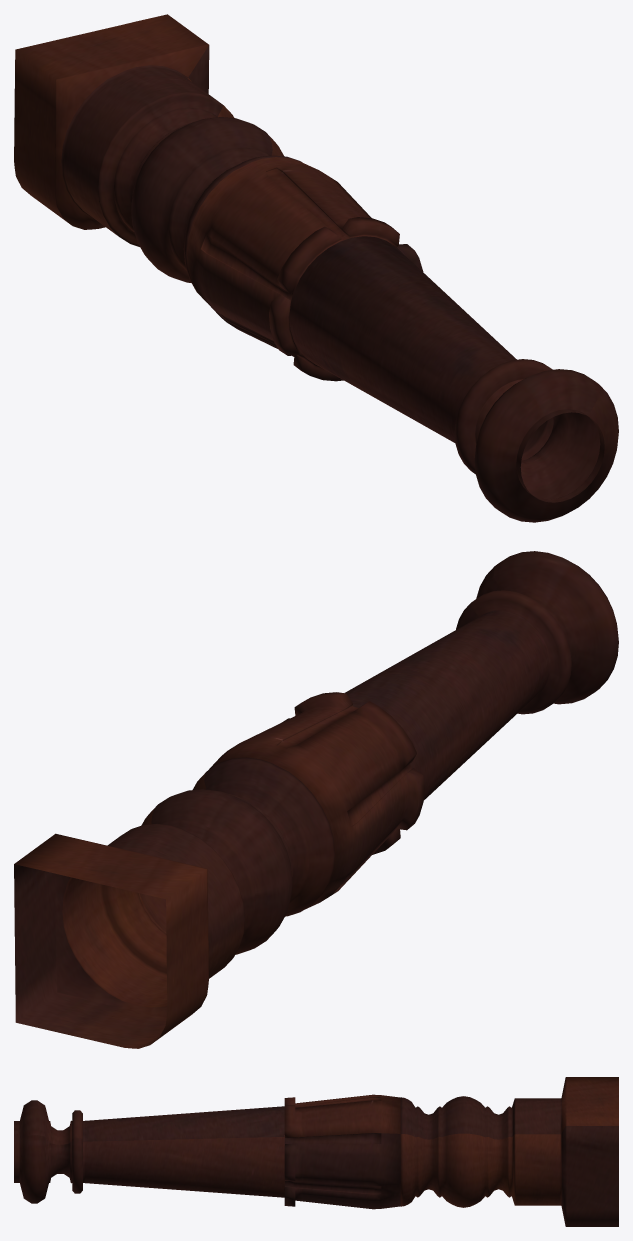
Rendered from legg2.fbx.
The picture shows the model from 3 angles, top to bottom: view 1: azimuth 30°, elevation 25°; view 2: azimuth 150°, elevation 25°; view 3: azimuth 270°, elevation 25°; orthographic projection. The views are drawn at different scales.
Visible parts, largest first — view 1: legg; view 2: legg; view 3: legg.
Part boxes in pixels (bbox=[...]): legg: bbox=[14, 14, 618, 522]; legg: bbox=[14, 551, 618, 1048]; legg: bbox=[14, 1077, 618, 1226].
Bounding box in the file's own units: 80.75 × 80.75 × 426.
1 material, 1 textured.
